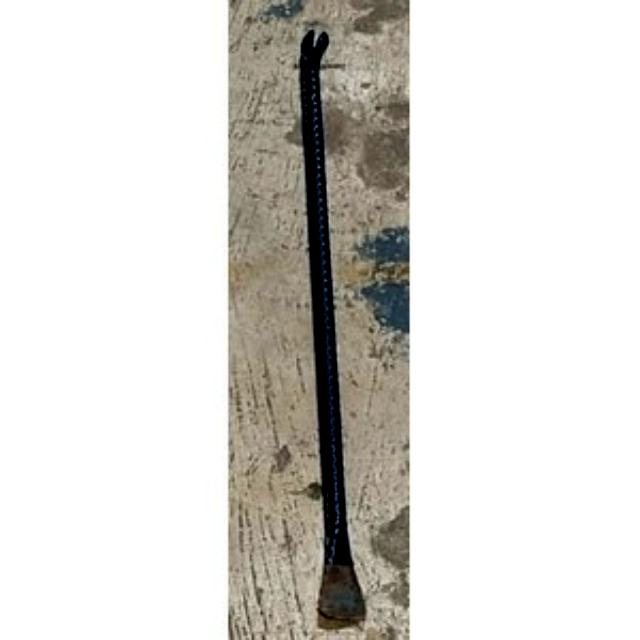crow bar: (299, 27, 378, 627)
